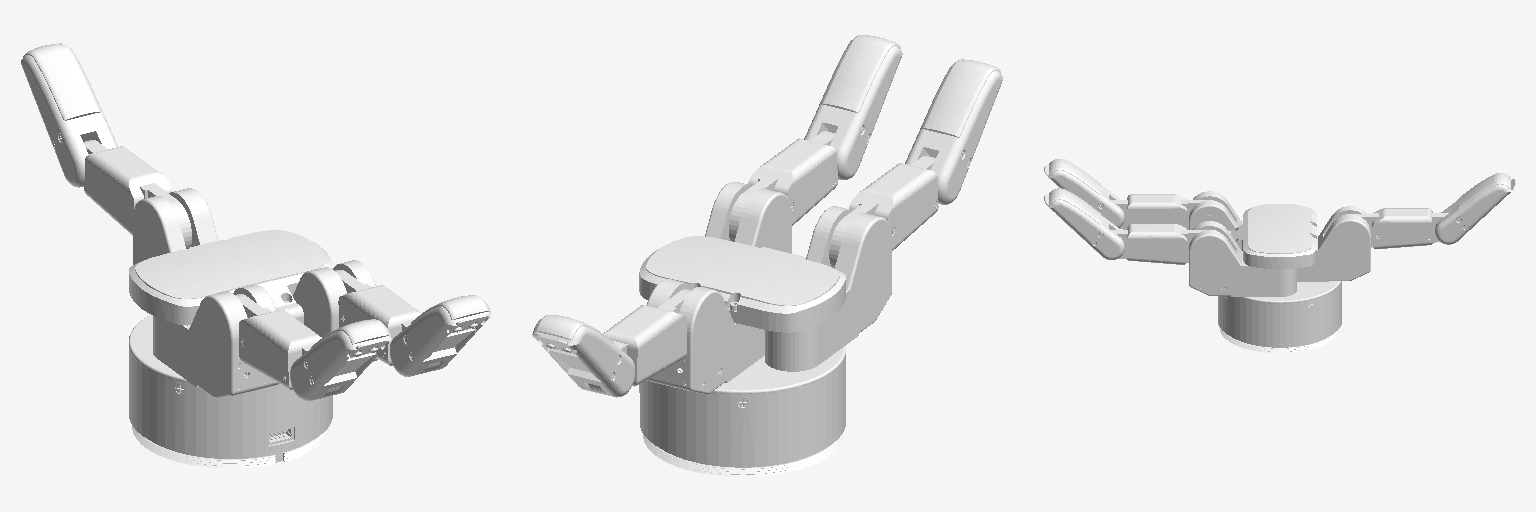
The robot description file, URDF, robot "barrett-bh8":
<?xml version="1.0" ?>
<!--robot name="barrett-bh8" xmlns:xacro="http://www.ros.org/wiki/xacro"-->
<robot name="barrett-bh8" xmlns:controller="http://playerstage.sourceforge.net/gazebo/xmlschema/#controller" xmlns:interface="http://playerstage.sourceforge.net/gazebo/xmlschema/#interface" xmlns:sensor="http://playerstage.sourceforge.net/gazebo/xmlschema/#sensor" xmlns:xacro="http://www.ros.org/wiki/xacro">
  <!-- hand start -->
  <link name="bhand_palm_link">
    <inertial>
      <origin xyz="-5.1098e-005 0.0050433 0.036671"/>
      <mass value="0.50573"/>
      <inertia ixx="3.8374e-005" ixy="-5.604e-008" ixz="-4.2034e-005" iyy="0.00022405" iyz="1.3283e-007" izz="0.00020045"/>
    </inertial>
    <visual>
      <material name="WAMGrey">
        <color rgba="1 1 1 1"/>
      </material>
      <geometry>
        <mesh filename="barrett-bh8/meshes/sw_meshes/bhand/palm_fine.obj"/>
      </geometry>
    </visual>
    <!-- wrist -->
    <collision>
      <origin xyz="0 0 0.02029"/>
      <geometry>
        <cylinder length="0.042" radius="0.045"/>
      </geometry>
    </collision>
    <!-- spine -->
    <collision>
      <origin xyz="0 0.01105 0.05768"/>
      <geometry>
        <box size="0.024 0.108 0.033"/>
      </geometry>
    </collision>
    <!-- palm -->
    <collision>
      <origin xyz="0 0 0.07243"/>
      <geometry>
        <box size="0.076 0.046 0.012"/>
      </geometry>
      <surface>
        <friction>
          <ode>
            <mu>1</mu>
            <mu2>1</mu2>
          </ode>
        </friction>
      </surface>
    </collision>
    <!-- F1 knuckle -->
    <collision>
      <origin rpy="0 1.5707 0" xyz="0 0.05 0.07527"/>
      <geometry>
        <cylinder length="0.024" radius="0.015"/>
      </geometry>
    </collision>
  </link>
  <joint name="right_bhand_palm_surface_joint" type="fixed">
    <parent link="bhand_palm_link"/>
    <child link="right_bhand_palm_surface_link"/>
    <origin rpy="0 0 0" xyz="0 0 0.08"/>
    <limit effort="30" lower="0" upper="3.14159265359" velocity="5.0"/>
  </joint>
  <link name="right_bhand_palm_surface_link">
    <inertial>
      <mass value="0.00001"/>
      <inertia ixx="0.000001" ixy="0.0" ixz="0.0" iyy="0.000001" iyz="0.0" izz="0.000001"/>
    </inertial>
  </link>
  <joint name="right_bhand_grasp_joint" type="fixed">
    <parent link="bhand_palm_link"/>
    <child link="right_bhand_grasp_link"/>
    <origin rpy="0 0 0" xyz="0 0 0.12"/>
    <limit effort="30" lower="0" upper="3.14159265359" velocity="5.0"/>
  </joint>
  <link name="right_bhand_grasp_link">
    <collision>
      <!-- https://github.com/ros-planning/moveit_core/issues/158 -->
      <origin rpy="0 0 0" xyz="0 0 -0.13"/>
      <geometry>
        <sphere radius="0.001"/>
      </geometry>
    </collision>
    <inertial>
      <mass value="0.00001"/>
      <inertia ixx="0.000001" ixy="0.0" ixz="0.0" iyy="0.000001" iyz="0.0" izz="0.000001"/>
    </inertial>
  </link>
  <joint name="finger_1/prox_joint" type="revolute">
    <parent link="bhand_palm_link"/>
    <child link="finger_1/prox_link"/>
    <origin rpy="0 0 -1.57079632679" xyz="-0.025 0.0 0.0415"/>
    <axis xyz="0 0 -1"/>
    <limit effort="5" lower="0" upper="3.14159265359" velocity="10.0"/>
    <!-- <dynamics damping="0.35" friction="0"/> -->
    <dynamics damping="0.1" friction="0"/>
  </joint>
  <link name="finger_1/prox_link">
    <inertial>
      <origin xyz="0.023133 0.00078642 0.00052792"/>
      <mass value="0.14109"/>
      <inertia ixx="4.872e-006" ixy="1.7103e-006" ixz="3.4041e-008" iyy="7.6588e-005" iyz="2.3133e-008" izz="7.7733e-005"/>
    </inertial>
    <visual>
      <material name="WAMGrey">
        <color rgba="1 1 1 1"/>
      </material>
      <geometry>
        <mesh filename="barrett-bh8/meshes/sw_meshes/bhand/prox_fine.obj"/>
      </geometry>
    </visual>
    <!-- base -->
    <collision>
      <origin xyz="0.03217 0.0 0.01674"/>
      <geometry>
        <box size="0.066 0.024 0.033"/>
      </geometry>
    </collision>
    <!-- F2/F3 knuckle -->
    <collision>
      <origin rpy="1.5707 0 0" xyz="0.05 0.0 0.034"/>
      <geometry>
        <cylinder length="0.024" radius="0.015"/>
      </geometry>
    </collision>
  </link>
  <joint name="finger_1/med_joint" type="revolute">
    <parent link="finger_1/prox_link"/>
    <child link="finger_1/med_link"/>
    <origin rpy="1.57079632679 0 0" xyz="0.05 0.0 0.03390"/>
    <axis xyz="0 0 1"/>
    <limit effort="30" lower="0" upper="2.44346095279" velocity="10.00"/>
    <!-- <dynamics damping="0.35" friction="0"/> -->
    <dynamics damping="0.1" friction="0"/>
  </joint>
  <link name="finger_1/med_link">
    <inertial>
      <origin xyz="0.023133 0.00078642 0.00052792"/>
      <mass value="0.062139"/>
      <inertia ixx="4.872e-006" ixy="1.7103e-006" ixz="3.4041e-008" iyy="7.6588e-005" iyz="2.3133e-008" izz="7.7733e-005"/>
    </inertial>
    <visual>
      <material name="WAMGrey">
        <color rgba="1 1 1 1"/>
      </material>
      <geometry>
        <mesh filename="barrett-bh8/meshes/sw_meshes/bhand/med_fine.obj"/>
      </geometry>
    </visual>
    <!-- spine -->
    <collision>
      <origin xyz="0.03493 0.003 -0.0007"/>
      <geometry>
        <box size="0.07 0.019 0.006"/>
      </geometry>
    </collision>
    <!-- protrusion -->
    <collision>
      <origin xyz="0.03894 0.00376 -0.0007"/>
      <geometry>
        <box size="0.031 0.023 0.019"/>
      </geometry>
      <surface>
        <friction>
          <ode>
            <mu>1</mu>
            <mu2>1</mu2>
          </ode>
        </friction>
      </surface>
    </collision>
  </link>
  <joint name="finger_1/dist_joint" type="revolute">
    <parent link="finger_1/med_link"/>
    <child link="finger_1/dist_link"/>
    <origin rpy="0 0 0.785398163397" xyz="0.06994 0.003 0.0"/>
    <axis xyz="0 0 1"/>
    <limit effort="30" lower="0" upper="0.837758040957" velocity="10.00"/>
    <!-- <dynamics damping="0.35" friction="0"/> -->
    <dynamics damping="0.1" friction="0"/>
  </joint>
  <link name="finger_1/dist_link">
    <inertial>
      <origin rpy="0 0 0" xyz="0.022825 0.0010491 0.0004203"/>
      <mass value="0.041377"/>
      <inertia ixx="3.1582e-006" ixy="1.4308e-006" ixz="1.0106e-007" iyy="3.8376e-005" iyz="0" izz="3.7275e-005"/>
    </inertial>
    <visual>
      <origin rpy="0 0 -0.785398163397"/>
      <material name="WAMGrey">
        <color rgba="1 1 1 1"/>
      </material>
      <geometry>
        <mesh filename="barrett-bh8/meshes/sw_meshes/bhand/dist_fine.obj"/>
      </geometry>
    </visual>
    <collision>
      <origin rpy="0 0 -0.785398163397"/>
      <geometry>
        <mesh filename="barrett-bh8/meshes/sw_meshes/bhand/bhand_finger_dist_link_convex.dae"/>
      </geometry>
      <surface>
        <friction>
          <ode>
            <mu>1</mu>
            <mu2>1</mu2>
          </ode>
        </friction>
      </surface>
    </collision>
  </link>
  <joint name="finger_1/tip_joint" type="fixed">
    <parent link="finger_1/dist_link"/>
    <child link="finger_1/tip_link"/>
    <origin rpy="0 0 0" xyz="0.05 0.0 0.0"/>
  </joint>
  <link name="finger_1/tip_link">
    <inertial>
      <mass value="1E-6"/>
      <inertia ixx="1E-6" ixy="0" ixz="0" iyy="1E-6" iyz="0" izz="1E-6"/>
    </inertial>
  </link>
  <joint name="finger_2/prox_joint" type="revolute">
    <parent link="bhand_palm_link"/>
    <child link="finger_2/prox_link"/>
    <origin rpy="0 0 -1.57079632679" xyz="0.025 0.0 0.0415"/>
    <axis xyz="0 0 1"/>
    <limit effort="5" lower="0" upper="3.14159265359" velocity="10.0"/>
    <!-- Change the damping to influence the spread behavior -->
    <!-- <dynamics damping="0.35" friction="0"/> -->
    <dynamics damping="0.1" friction="0"/>
  </joint>
  <link name="finger_2/prox_link">
    <inertial>
      <origin xyz="0.023133 0.00078642 0.00052792"/>
      <mass value="0.14109"/>
      <inertia ixx="4.872e-006" ixy="1.7103e-006" ixz="3.4041e-008" iyy="7.6588e-005" iyz="2.3133e-008" izz="7.7733e-005"/>
    </inertial>
    <visual>
      <material name="WAMGrey">
        <color rgba="1 1 1 1"/>
      </material>
      <geometry>
        <mesh filename="barrett-bh8/meshes/sw_meshes/bhand/prox_fine.obj"/>
      </geometry>
    </visual>
    <!-- base -->
    <collision>
      <origin xyz="0.03217 0.0 0.01674"/>
      <geometry>
        <box size="0.066 0.024 0.033"/>
      </geometry>
    </collision>
    <!-- F2/F3 knuckle -->
    <collision>
      <origin rpy="1.5707 0 0" xyz="0.05 0.0 0.034"/>
      <geometry>
        <cylinder length="0.024" radius="0.015"/>
      </geometry>
    </collision>
  </link>
  <joint name="finger_2/med_joint" type="revolute">
    <parent link="finger_2/prox_link"/>
    <child link="finger_2/med_link"/>
    <origin rpy="1.57079632679 0 0" xyz="0.05 0.0 0.03390"/>
    <axis xyz="0 0 1"/>
    <limit effort="30" lower="0" upper="2.44346095279" velocity="10.00"/>
    <!-- <dynamics damping="0.35" friction="0"/> -->
    <dynamics damping="0.1" friction="0"/>
  </joint>
  <link name="finger_2/med_link">
    <inertial>
      <origin xyz="0.023133 0.00078642 0.00052792"/>
      <mass value="0.062139"/>
      <inertia ixx="4.872e-006" ixy="1.7103e-006" ixz="3.4041e-008" iyy="7.6588e-005" iyz="2.3133e-008" izz="7.7733e-005"/>
    </inertial>
    <visual>
      <material name="WAMGrey">
        <color rgba="1 1 1 1"/>
      </material>
      <geometry>
        <mesh filename="barrett-bh8/meshes/sw_meshes/bhand/med_fine.obj"/>
      </geometry>
    </visual>
    <!-- spine -->
    <collision>
      <origin xyz="0.03493 0.003 -0.0007"/>
      <geometry>
        <box size="0.07 0.019 0.006"/>
      </geometry>
    </collision>
    <!-- protrusion -->
    <collision>
      <origin xyz="0.03894 0.00376 -0.0007"/>
      <geometry>
        <box size="0.031 0.023 0.019"/>
      </geometry>
      <surface>
        <friction>
          <ode>
            <mu>1</mu>
            <mu2>1</mu2>
          </ode>
        </friction>
      </surface>
    </collision>
  </link>
  <joint name="finger_2/dist_joint" type="revolute">
    <parent link="finger_2/med_link"/>
    <child link="finger_2/dist_link"/>
    <origin rpy="0 0 0.785398163397" xyz="0.06994 0.003 0.0"/>
    <axis xyz="0 0 1"/>
    <limit effort="30" lower="0" upper="0.837758040957" velocity="10.00"/>
    <!-- <dynamics damping="0.35" friction="0"/> -->
    <dynamics damping="0.1" friction="0"/>
  </joint>
  <link name="finger_2/dist_link">
    <inertial>
      <origin rpy="0 0 0" xyz="0.022825 0.0010491 0.0004203"/>
      <mass value="0.041377"/>
      <inertia ixx="3.1582e-006" ixy="1.4308e-006" ixz="1.0106e-007" iyy="3.8376e-005" iyz="0" izz="3.7275e-005"/>
    </inertial>
    <visual>
      <origin rpy="0 0 -0.785398163397"/>
      <material name="WAMGrey">
        <color rgba="1 1 1 1"/>
      </material>
      <geometry>
        <mesh filename="barrett-bh8/meshes/sw_meshes/bhand/dist_fine.obj"/>
      </geometry>
    </visual>
    <collision>
      <origin rpy="0 0 -0.785398163397"/>
      <geometry>
        <mesh filename="barrett-bh8/meshes/sw_meshes/bhand/bhand_finger_dist_link_convex.dae"/>
      </geometry>
      <surface>
        <friction>
          <ode>
            <mu>1</mu>
            <mu2>1</mu2>
          </ode>
        </friction>
      </surface>
    </collision>
  </link>
  <joint name="finger_2/tip_joint" type="fixed">
    <parent link="finger_2/dist_link"/>
    <child link="finger_2/tip_link"/>
    <origin rpy="0 0 0" xyz="0.05 0.0 0.0"/>
  </joint>
  <link name="finger_2/tip_link">
    <inertial>
      <mass value="1E-6"/>
      <inertia ixx="1E-6" ixy="0" ixz="0" iyy="1E-6" iyz="0" izz="1E-6"/>
    </inertial>
  </link>
  <joint name="finger_3/med_joint" type="revolute">
    <parent link="bhand_palm_link"/>
    <child link="finger_3/med_link"/>
    <origin rpy="1.57079632679 0 1.57079632679" xyz="0 0.05 0.0754"/>
    <axis xyz="0 0 1"/>
    <limit effort="30" lower="0" upper="2.44346095279" velocity="10.00"/>
    <!-- <dynamics damping="0.35" friction="0"/> -->
    <dynamics damping="0.1" friction="0"/>
  </joint>
  <link name="finger_3/med_link">
    <inertial>
      <origin xyz="0.023133 0.00078642 0.00052792"/>
      <mass value="0.062139"/>
      <inertia ixx="4.872e-006" ixy="1.7103e-006" ixz="3.4041e-008" iyy="7.6588e-005" iyz="2.3133e-008" izz="7.7733e-005"/>
    </inertial>
    <visual>
      <material name="WAMGrey">
        <color rgba="1 1 1 1"/>
      </material>
      <geometry>
        <mesh filename="barrett-bh8/meshes/sw_meshes/bhand/med_fine.obj"/>
      </geometry>
    </visual>
    <!-- spine -->
    <collision>
      <origin xyz="0.03493 0.003 -0.0007"/>
      <geometry>
        <box size="0.07 0.019 0.006"/>
      </geometry>
    </collision>
    <!-- protrusion -->
    <collision>
      <origin xyz="0.03894 0.00376 -0.0007"/>
      <geometry>
        <box size="0.031 0.023 0.019"/>
      </geometry>
      <surface>
        <friction>
          <ode>
            <mu>1</mu>
            <mu2>1</mu2>
          </ode>
        </friction>
      </surface>
    </collision>
  </link>
  <joint name="finger_3/dist_joint" type="revolute">
    <parent link="finger_3/med_link"/>
    <child link="finger_3/dist_link"/>
    <origin rpy="0 0 0.785398163397" xyz="0.06994 0.003 0.0"/>
    <axis xyz="0 0 1"/>
    <limit effort="30" lower="0" upper="0.837758040957" velocity="10.00"/>
    <!-- <dynamics damping="0.35" friction="0"/> -->
    <dynamics damping="0.1" friction="0"/>
  </joint>
  <link name="finger_3/dist_link">
    <inertial>
      <origin rpy="0 0 0" xyz="0.022825 0.0010491 0.0004203"/>
      <mass value="0.041377"/>
      <inertia ixx="3.1582e-006" ixy="1.4308e-006" ixz="1.0106e-007" iyy="3.8376e-005" iyz="0" izz="3.7275e-005"/>
    </inertial>
    <visual>
      <origin rpy="0 0 -0.785398163397"/>
      <material name="WAMGrey">
        <color rgba="1 1 1 1"/>
      </material>
      <geometry>
        <mesh filename="barrett-bh8/meshes/sw_meshes/bhand/dist_fine.obj"/>
      </geometry>
    </visual>
    <collision>
      <origin rpy="0 0 -0.785398163397"/>
      <geometry>
        <mesh filename="barrett-bh8/meshes/sw_meshes/bhand/bhand_finger_dist_link_convex.dae"/>
      </geometry>
      <surface>
        <friction>
          <ode>
            <mu>1</mu>
            <mu2>1</mu2>
          </ode>
        </friction>
      </surface>
    </collision>
  </link>
  <joint name="finger_3/tip_joint" type="fixed">
    <parent link="finger_3/dist_link"/>
    <child link="finger_3/tip_link"/>
    <origin rpy="0 0 0" xyz="0.05 0.0 0.0"/>
  </joint>
  <link name="finger_3/tip_link">
    <inertial>
      <mass value="1E-6"/>
      <inertia ixx="1E-6" ixy="0" ixz="0" iyy="1E-6" iyz="0" izz="1E-6"/>
    </inertial>
  </link>
<!-- hand end -->
</robot>

--- What the picture shows (computed from the rendered views, not written in the file) ---
3 views of the same robot in one strip: view 1: azimuth 30°, elevation 25°; view 2: azimuth 150°, elevation 25°; view 3: azimuth 270°, elevation 25° (orthographic).
Model barrett-bh8 with 14 links and 13 joints (8 revolute, 5 fixed), rooted at bhand_palm_link, posed every joint at zero.
Visible links, largest first — view 1: bhand_palm_link, finger_1/prox_link, finger_3/dist_link, finger_3/med_link, finger_1/dist_link, finger_2/dist_link, finger_1/med_link, finger_2/med_link, finger_2/prox_link; view 2: bhand_palm_link, finger_1/prox_link, finger_1/dist_link, finger_2/dist_link, finger_1/med_link, finger_2/med_link, finger_3/dist_link, finger_3/med_link, finger_2/prox_link; view 3: bhand_palm_link, finger_2/prox_link, finger_3/med_link, finger_2/med_link, finger_3/dist_link, finger_2/dist_link, finger_1/med_link, finger_1/dist_link, finger_1/prox_link.
Boxes of the visible links, left/top/right/bottom form: bhand_palm_link: left=129, top=188, right=332, bottom=468; finger_1/prox_link: left=153, top=285, right=278, bottom=398; finger_3/dist_link: left=21, top=43, right=117, bottom=187; finger_3/med_link: left=83, top=140, right=191, bottom=248; finger_1/dist_link: left=290, top=319, right=391, bottom=400; finger_2/dist_link: left=390, top=295, right=490, bottom=376; finger_1/med_link: left=235, top=294, right=340, bottom=398; finger_2/med_link: left=335, top=270, right=439, bottom=373; finger_2/prox_link: left=293, top=260, right=377, bottom=361; bhand_palm_link: left=639, top=236, right=845, bottom=476; finger_1/prox_link: left=765, top=206, right=891, bottom=371; finger_1/dist_link: left=905, top=59, right=1002, bottom=204; finger_2/dist_link: left=804, top=35, right=902, bottom=179; finger_1/med_link: left=829, top=156, right=938, bottom=268; finger_2/med_link: left=729, top=131, right=837, bottom=241; finger_3/dist_link: left=532, top=315, right=634, bottom=397; finger_3/med_link: left=588, top=289, right=691, bottom=394; finger_2/prox_link: left=705, top=182, right=791, bottom=253; bhand_palm_link: left=1218, top=204, right=1370, bottom=352; finger_2/prox_link: left=1189, top=221, right=1296, bottom=296; finger_3/med_link: left=1342, top=208, right=1448, bottom=248; finger_2/med_link: left=1112, top=224, right=1217, bottom=264; finger_3/dist_link: left=1435, top=173, right=1515, bottom=244; finger_2/dist_link: left=1044, top=188, right=1124, bottom=259; finger_1/med_link: left=1111, top=194, right=1216, bottom=229; finger_1/dist_link: left=1044, top=159, right=1124, bottom=227; finger_1/prox_link: left=1189, top=191, right=1242, bottom=230.
Size in the robot's own frame: 0.089 by 0.3353 by 0.1187 metres.
Meshes: 4 distinct files referenced, 9 mesh visuals loaded (4 OBJ).
